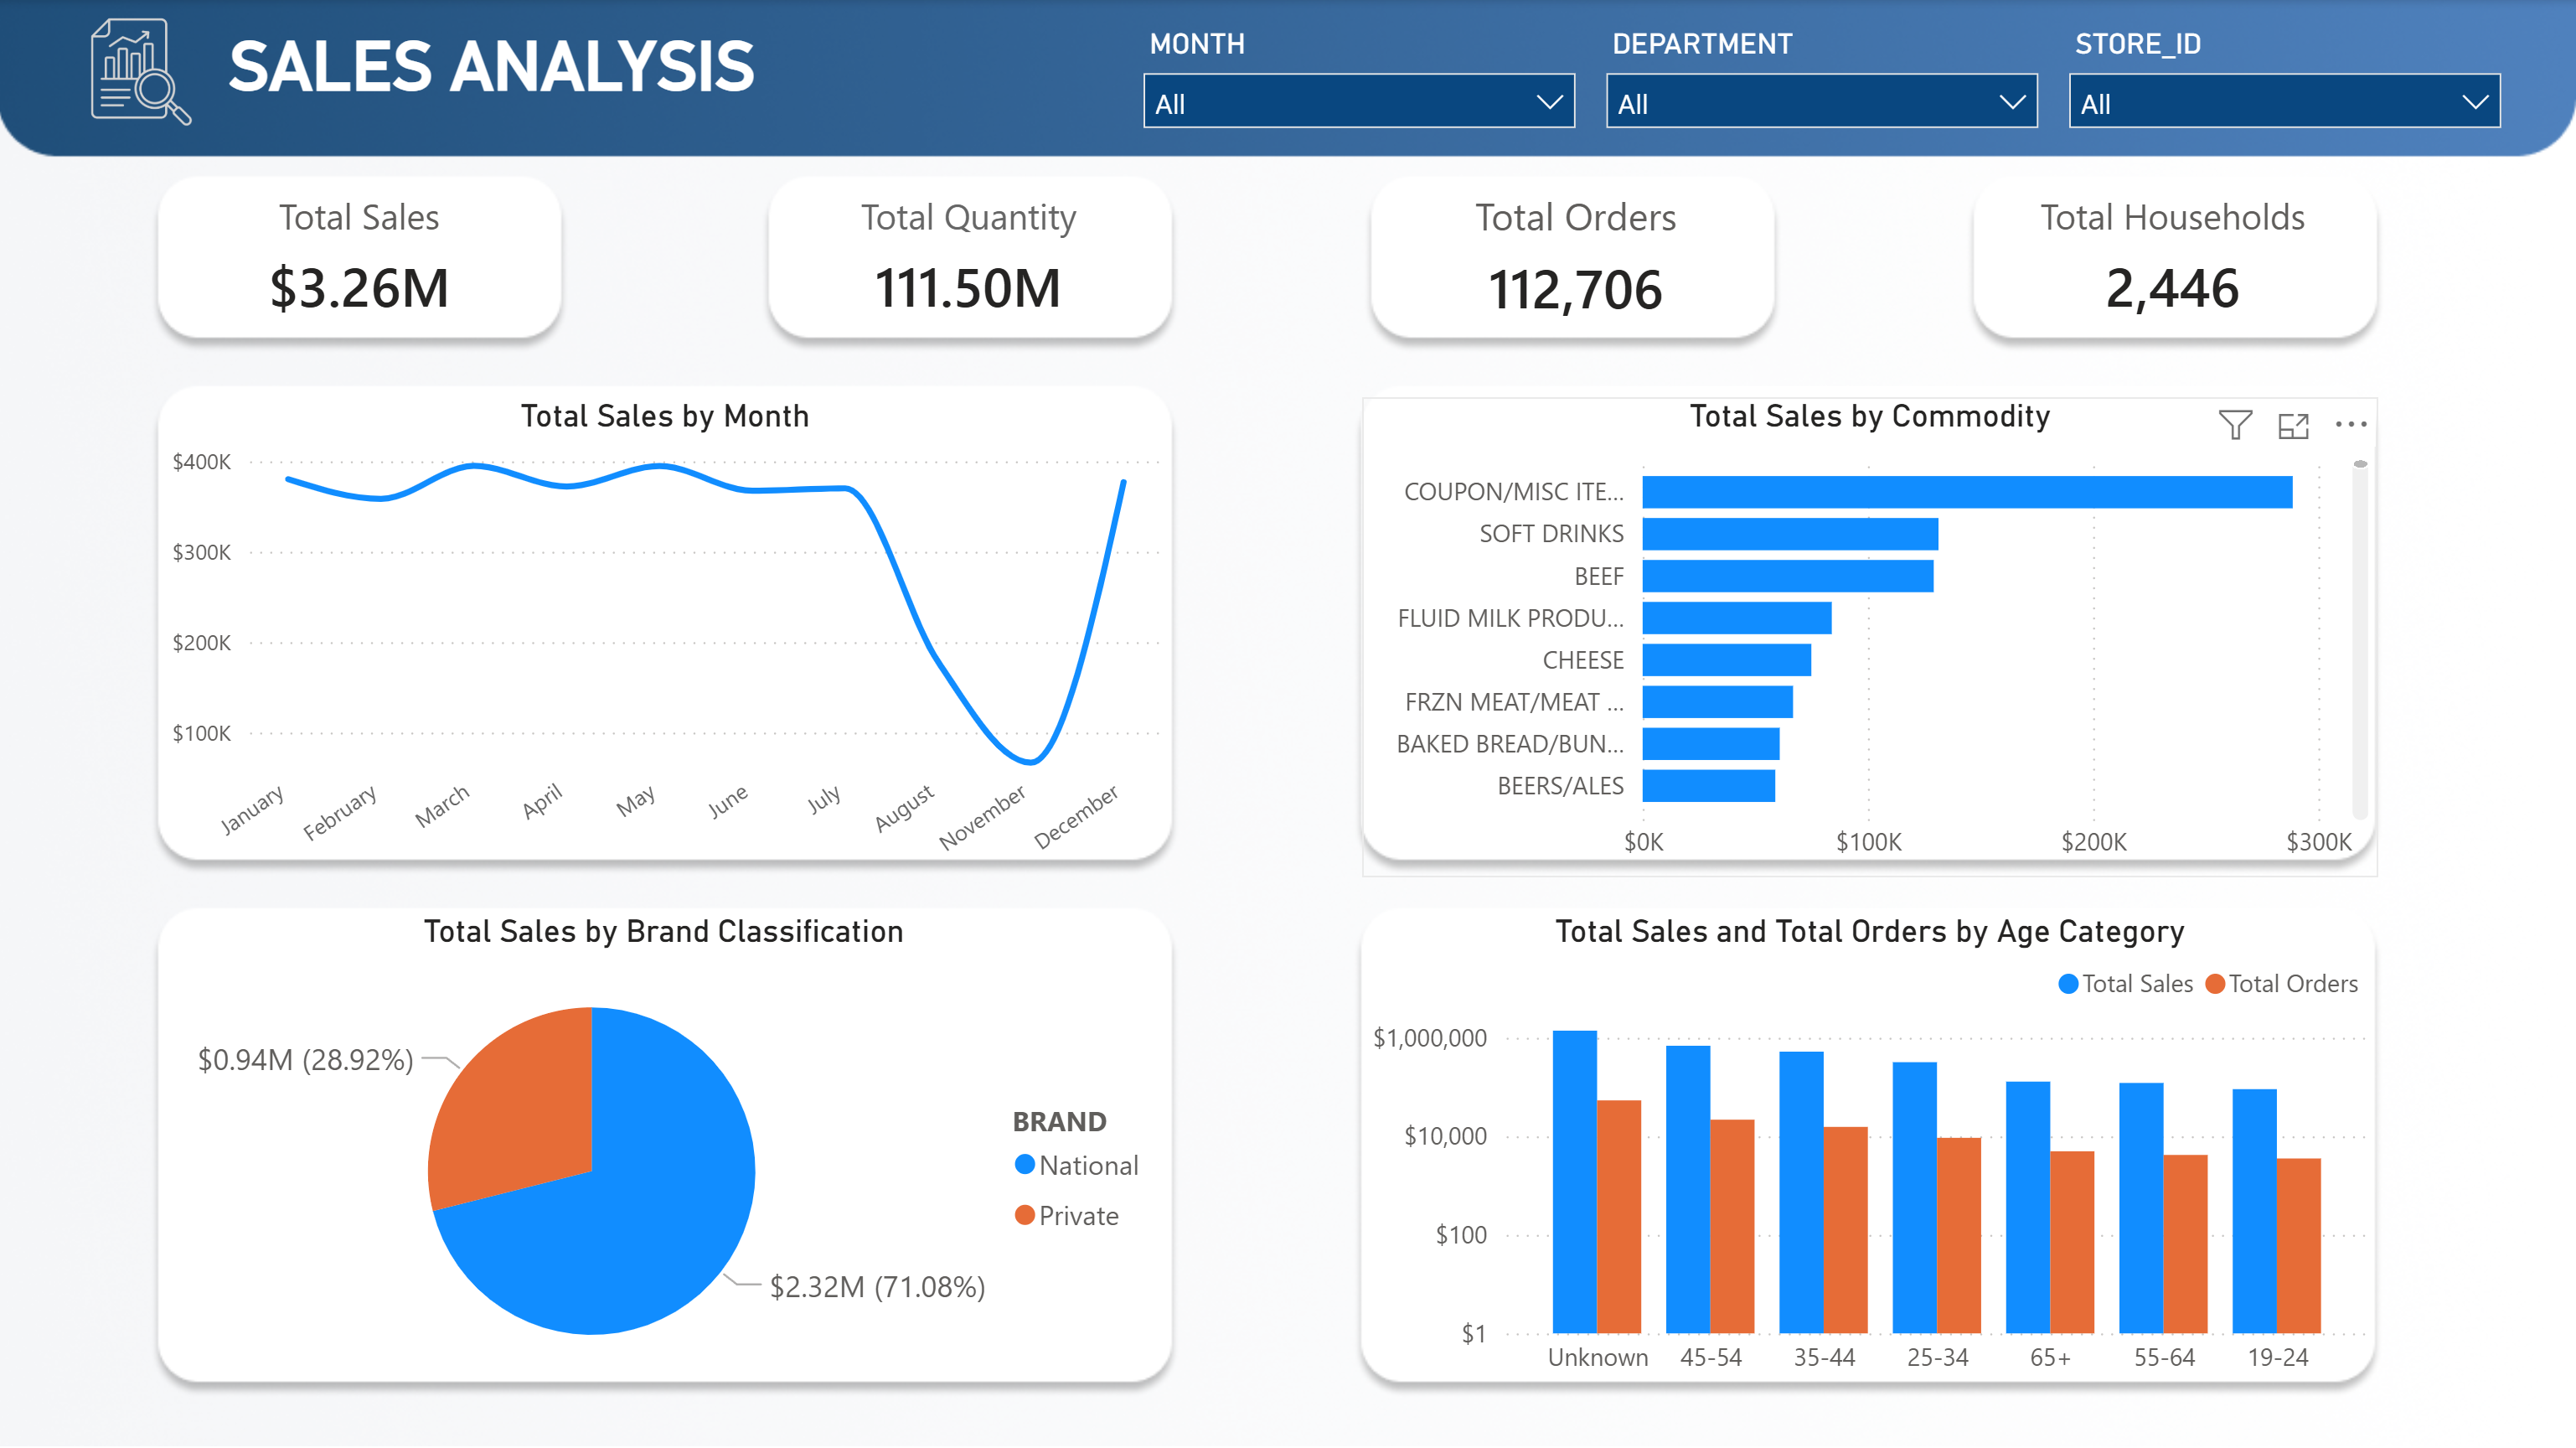

The dashboard page shown, as its layout file describes it:
{"tool":"powerbi","page":{"name":"Page 2","canvas":[1280,720],"ordinal":1},"visuals":[{"type":"cardVisual","fields":{"Data":["DAX.Total Sales"]},"box":[80,112.9,200,120],"z":0},{"type":"cardVisual","fields":{"Data":["DAX.Total Quantity"]},"box":[382.9,112.9,200,120],"z":1000},{"type":"cardVisual","fields":{"Data":["DAX.Total Orders"]},"box":[682.9,112.9,202.9,120],"z":2000},{"type":"cardVisual","fields":{"Data":["DAX.Total Households"]},"box":[978.6,112.9,202.9,120],"z":3000},{"type":"slicer","fields":{"Values":["Date Dim.Date.Variation.Date Hierarchy.Month"]},"box":[574.3,15.7,234.3,70],"z":4000},{"type":"slicer","fields":{"Values":["Product Dim.DEPARTMENT"]},"box":[804,15.7,234.3,70],"z":5000},{"type":"slicer","fields":{"Values":["Sales Fact.STORE_ID"]},"box":[1033.7,15.7,234.3,70],"z":6000},{"type":"textbox","box":[124.3,15.7,358.6,70],"z":7000},{"type":"image","box":[37.1,7.1,87.1,78.6],"z":8000},{"type":"lineChart","fields":{"Y":["DAX.Total Sales"],"Category":["Date Dim.Date.Variation.Date Hierarchy.Month"]},"box":[81.4,261.4,501.4,201.4],"z":9000},{"type":"pieChart","title":"Total Sales by Brand Classification","fields":{"Y":["DAX.Total Sales"],"Category":["Product Dim.BRAND"]},"box":[81.4,485.7,500,205.7],"z":10000},{"type":"clusteredColumnChart","title":"Total Sales and Total Orders by Age Category","fields":{"Y":["DAX.Total Sales","DAX.Total Orders"],"Category":["Houshold Dim.AGE_DESC"]},"box":[682.9,485.7,498.6,205.7],"z":11000},{"type":"barChart","title":"Total Sales by Commodity","fields":{"Category":["Product Dim.COMMODITY_DESC"],"Y":["DAX.Total Sales"]},"box":[682.9,261.4,498.6,201.4],"z":12000}]}

Visuals, with their boxes in screenshot pixels (x1, y1, x2, y2), scaled from the page's 1280x720 canvas onto the 2576x1448 screenshot:
cardVisual - DAX.Total Sales: {"x1": 161, "y1": 227, "x2": 564, "y2": 468}
cardVisual - DAX.Total Quantity: {"x1": 771, "y1": 227, "x2": 1173, "y2": 468}
cardVisual - DAX.Total Orders: {"x1": 1375, "y1": 227, "x2": 1783, "y2": 468}
cardVisual - DAX.Total Households: {"x1": 1969, "y1": 227, "x2": 2377, "y2": 468}
slicer - Date Dim.Date.Variation.Date Hierarchy.Month: {"x1": 1156, "y1": 32, "x2": 1628, "y2": 173}
slicer - Product Dim.DEPARTMENT: {"x1": 1618, "y1": 32, "x2": 2089, "y2": 173}
slicer - Sales Fact.STORE_ID: {"x1": 2080, "y1": 32, "x2": 2552, "y2": 173}
textbox: {"x1": 250, "y1": 32, "x2": 972, "y2": 173}
image: {"x1": 75, "y1": 14, "x2": 250, "y2": 173}
lineChart - DAX.Total Sales x Date Dim.Date.Variation.Date Hierarchy.Month: {"x1": 164, "y1": 525, "x2": 1173, "y2": 931}
"Total Sales by Brand Classification" pieChart: {"x1": 164, "y1": 977, "x2": 1170, "y2": 1390}
"Total Sales and Total Orders by Age Category" clusteredColumnChart: {"x1": 1375, "y1": 977, "x2": 2377, "y2": 1390}
"Total Sales by Commodity" barChart: {"x1": 1375, "y1": 525, "x2": 2377, "y2": 931}
